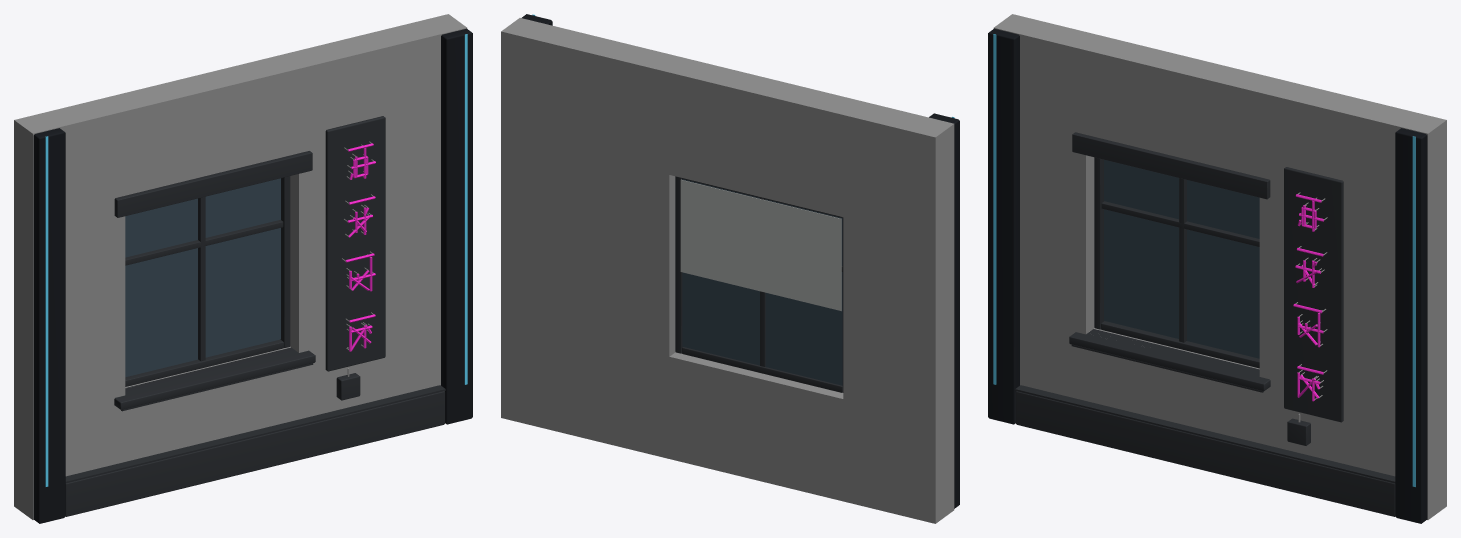
Rendered from Building_Facade_Panel_Window_Neon.fbx.
3 views of the same model, side by side, from view 1: azimuth 30°, elevation 25°; view 2: azimuth 150°, elevation 25°; view 3: azimuth 330°, elevation 25° (orthographic).
Parts seen in each view (by area): view 1: Building_Facade_Panel_Window_Neon_LOD0; view 2: Building_Facade_Panel_Window_Neon_LOD0; view 3: Building_Facade_Panel_Window_Neon_LOD0.
Part boxes in pixels (x1,y1,x2,y2): Building_Facade_Panel_Window_Neon_LOD0: (14, 14, 472, 523); Building_Facade_Panel_Window_Neon_LOD0: (501, 14, 959, 523); Building_Facade_Panel_Window_Neon_LOD0: (988, 14, 1446, 523).
Size of what is drawn, in the model's own units: 4 by 3.4 by 0.42.
